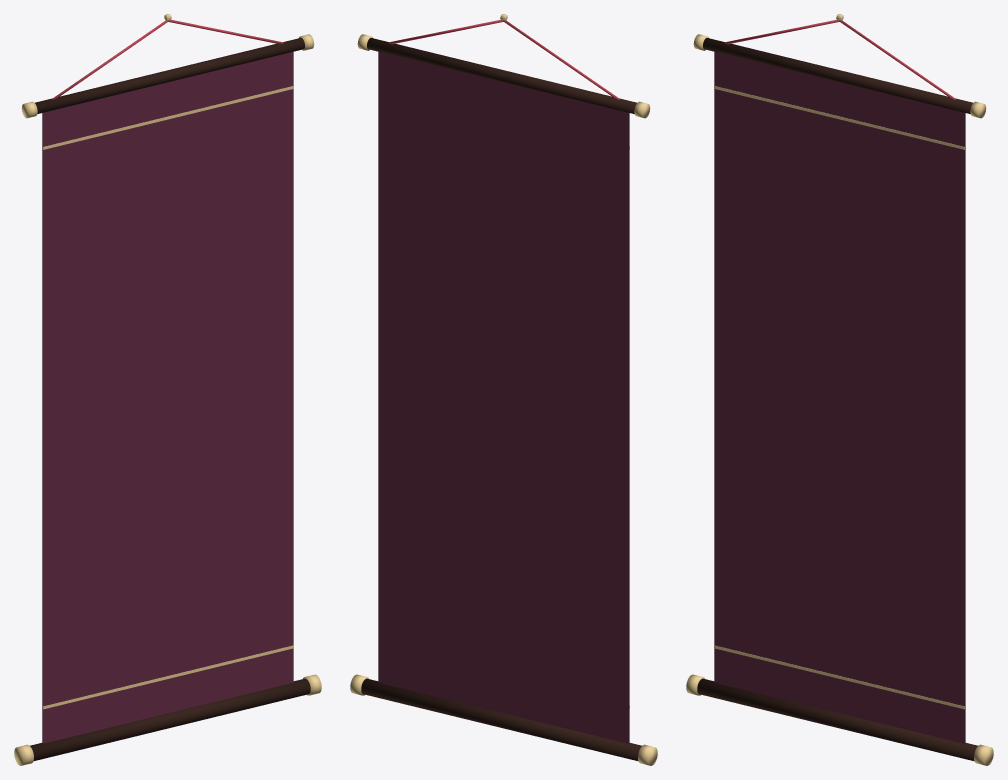
File: wall_scroll.glb
3 views of the same model, side by side, from view 1: azimuth 30°, elevation 25°; view 2: azimuth 150°, elevation 25°; view 3: azimuth 330°, elevation 25° (orthographic).
Visible parts, largest first — view 1: fabric, rod_bottom, rod_top, trim_0.104, trim_1.256; view 2: fabric, rod_bottom, rod_top; view 3: fabric, rod_bottom, rod_top, trim_0.104, trim_1.256.
Part boxes in pixels (x1,y1,x2,y2): fabric: (42, 51, 293, 743); rod_bottom: (30, 678, 310, 760); rod_top: (35, 38, 304, 113); trim_0.104: (43, 645, 293, 709); trim_1.256: (43, 86, 293, 149); fabric: (378, 51, 629, 743); rod_bottom: (361, 678, 641, 760); rod_top: (367, 38, 636, 113); fabric: (714, 51, 965, 743); rod_bottom: (697, 678, 977, 760); rod_top: (703, 38, 972, 113); trim_0.104: (714, 645, 964, 709); trim_1.256: (714, 86, 964, 149).
Size of the model in its own units: 0.642 by 1.47 by 0.036.
